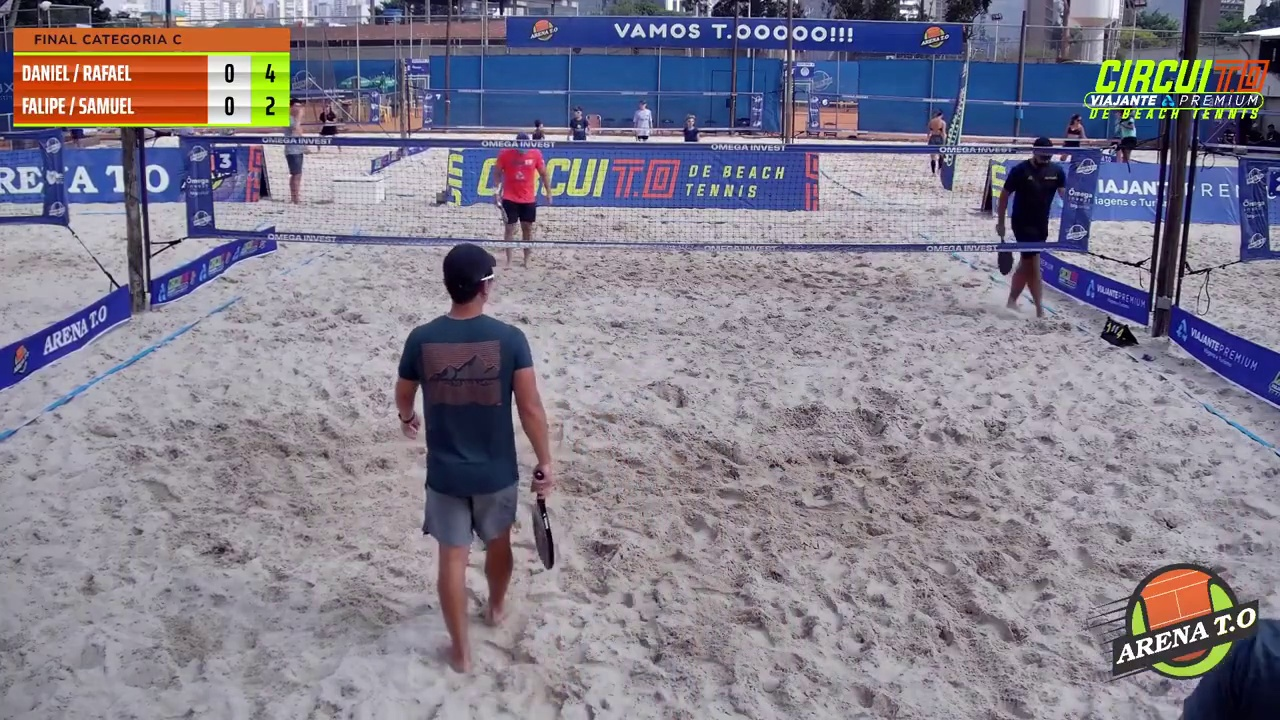court_line: (542, 0, 667, 478), (457, 0, 581, 451)
